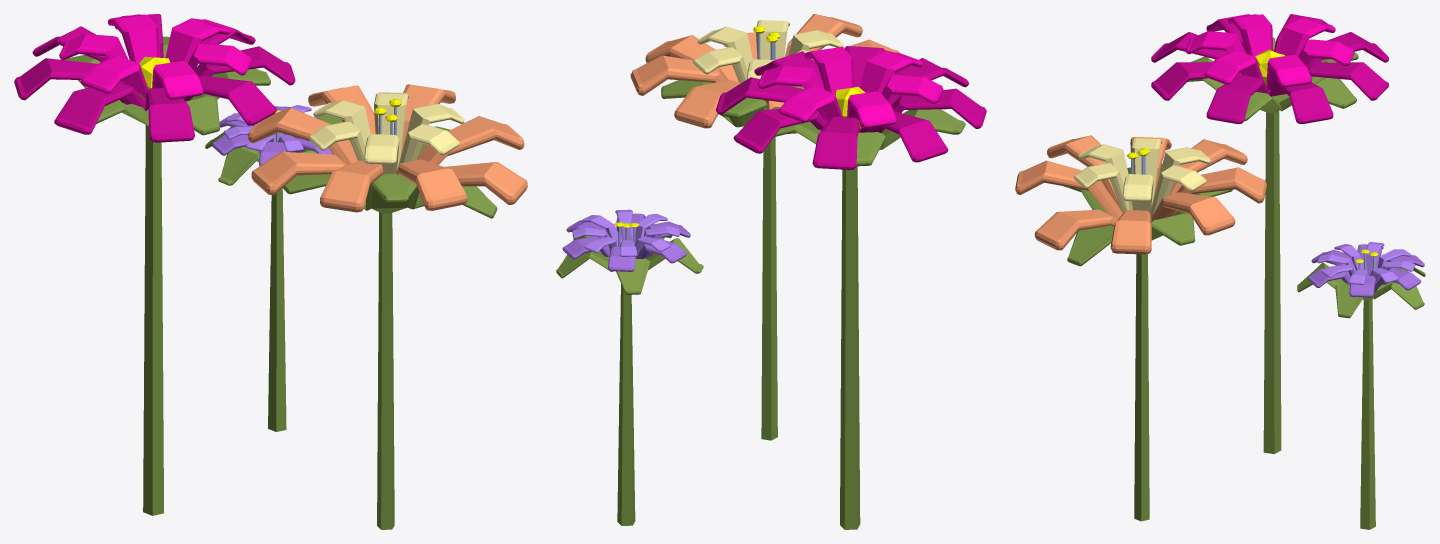
File: flower_02.fbx
3 renders of one model, left to right at view 1: azimuth 30°, elevation 25°; view 2: azimuth 150°, elevation 25°; view 3: azimuth 270°, elevation 25°, orthographic. The views are drawn at different scales.
Parts seen in each view (by area): view 1: Flower_Group_02; view 2: Flower_Group_02; view 3: Flower_Group_02.
Boxes of the visible parts, bbox=[...] form: Flower_Group_02: bbox=[14, 14, 527, 529]; Flower_Group_02: bbox=[556, 14, 986, 529]; Flower_Group_02: bbox=[1015, 14, 1425, 529].
Bounding box in the file's own units: 57.46 × 63.72 × 58.03.
